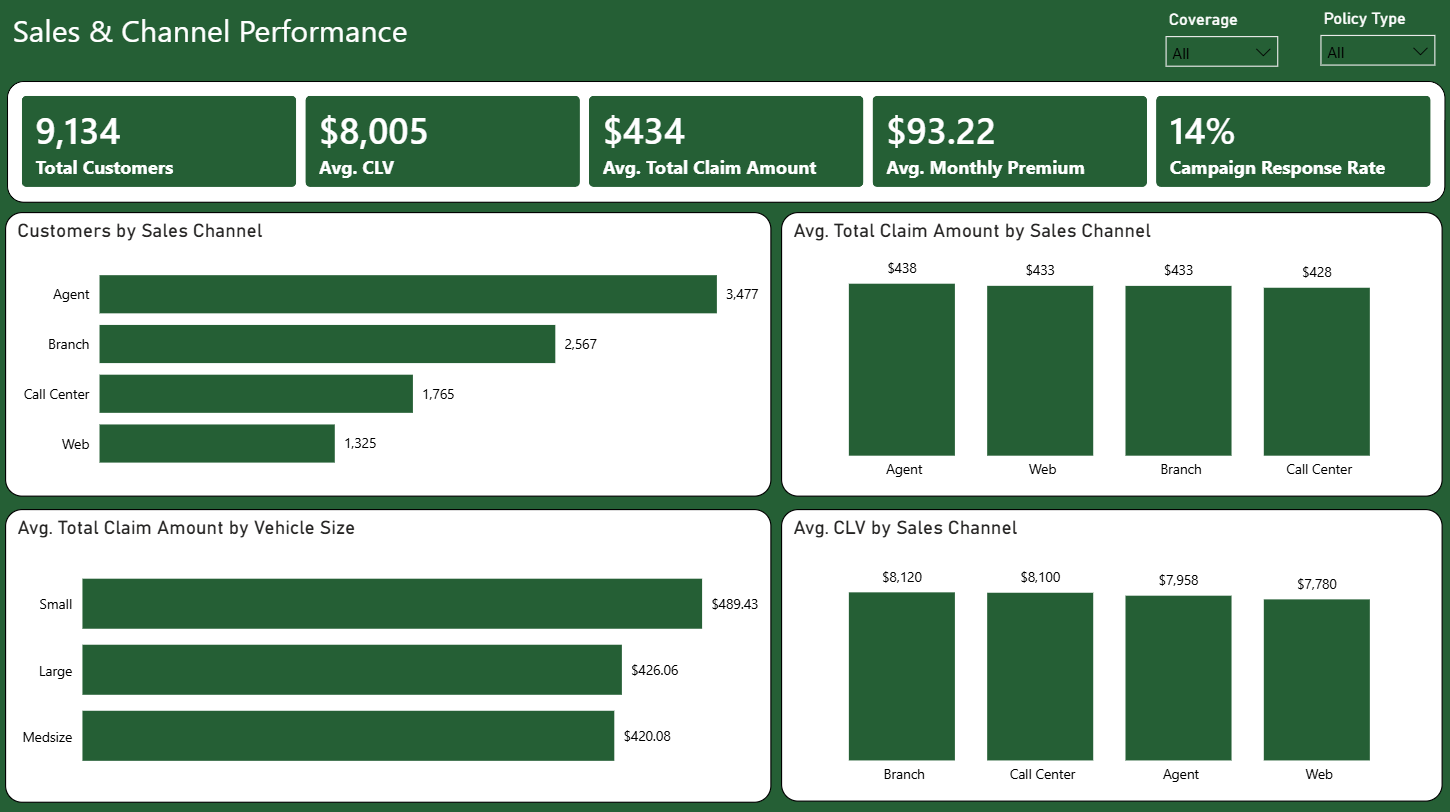

Layout of this report page (visuals, bound fields, positions):
{"tool":"powerbi","page":{"name":"Sales & Channel Performance","canvas":[1280,720],"ordinal":3},"visuals":[{"type":"clusteredBarChart","title":"Customers by Sales Channel","fields":{"Category":["Policy_Data.Sales Channel"],"Y":["KPI.Total Customers"]},"box":[6.8,192.6,673.1,250],"z":1000},{"type":"clusteredColumnChart","title":"Avg. Total Claim Amount by Sales Channel","fields":{"Category":["Policy_Data.Sales Channel"],"Y":["KPI.Avg. Total Claim Amount"]},"box":[688.6,192.6,580.7,250],"z":1001},{"type":"clusteredColumnChart","title":"Avg. CLV by Sales Channel","fields":{"Category":["Policy_Data.Sales Channel"],"Y":["KPI.Average. CLV"]},"box":[688.6,453.3,580.7,256.8],"z":1002},{"type":"clusteredBarChart","fields":{"Category":["Policy_Data.Vehicle Size"],"Y":["KPI.Avg. Total Claim Amount"]},"box":[6.8,453.3,673.1,257.8],"z":1005},{"type":"cardVisual","fields":{"Data":["KPI.Total Customers","KPI.Average. CLV","KPI.Avg. Total Claim Amount","KPI.Avg. Monthly Premium","KPI.Response Rate"]},"box":[8.8,76.8,1263.5,107],"z":1006},{"type":"textbox","box":[8.8,8.8,521.3,49.6],"z":1007},{"type":"slicer","fields":{"Values":["Policy_Data.Coverage"]},"box":[1015.4,8.8,120.6,68.1],"z":1008},{"type":"slicer","fields":{"Values":["Policy_Data.Policy Type"]},"box":[1151.6,8.8,120.6,68.1],"z":1009}]}

Visuals, with their boxes in screenshot pixels (x1, y1, x2, y2), scaled from the page's 1280x720 canvas onto the 1450x812 screenshot:
"Customers by Sales Channel" clusteredBarChart: <region>8, 217, 770, 499</region>
"Avg. Total Claim Amount by Sales Channel" clusteredColumnChart: <region>780, 217, 1438, 499</region>
"Avg. CLV by Sales Channel" clusteredColumnChart: <region>780, 511, 1438, 801</region>
clusteredBarChart - Policy_Data.Vehicle Size x KPI.Avg. Total Claim Amount: <region>8, 511, 770, 802</region>
cardVisual - KPI.Total Customers x KPI.Average. CLV: <region>10, 87, 1441, 207</region>
textbox: <region>10, 10, 601, 66</region>
slicer - Policy_Data.Coverage: <region>1150, 10, 1287, 87</region>
slicer - Policy_Data.Policy Type: <region>1305, 10, 1441, 87</region>
